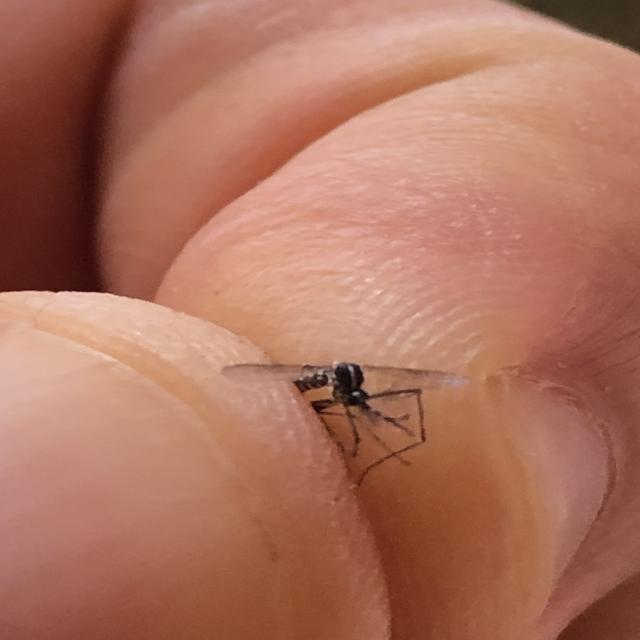albopictus: (217, 323, 448, 488)
